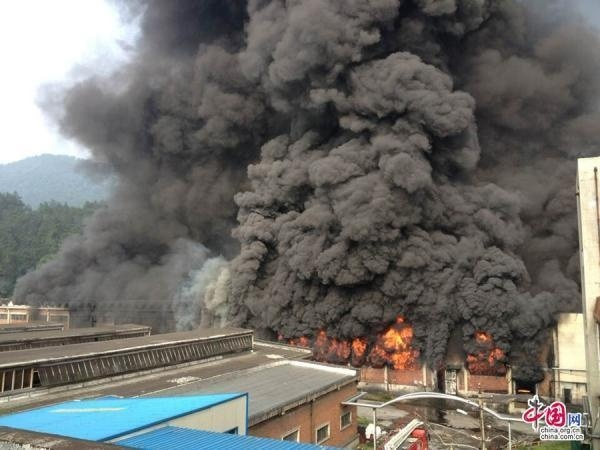fire: (290, 319, 420, 365), (465, 333, 506, 368)
